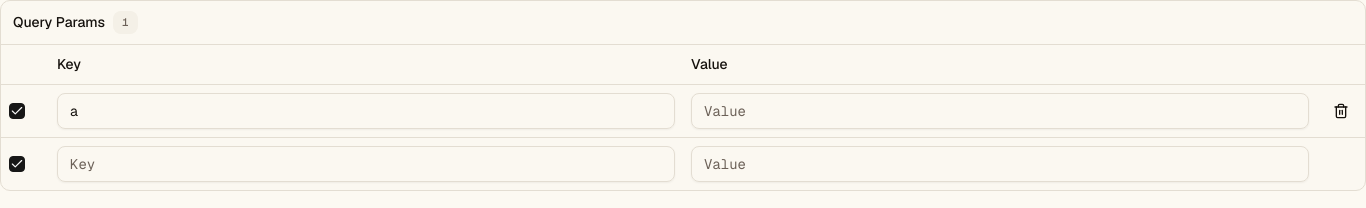
Test: removes an existing row when both fields are cleared and blurred
Clear the field with placeholder "Key": (366, 111) [57, 93, 675, 129]
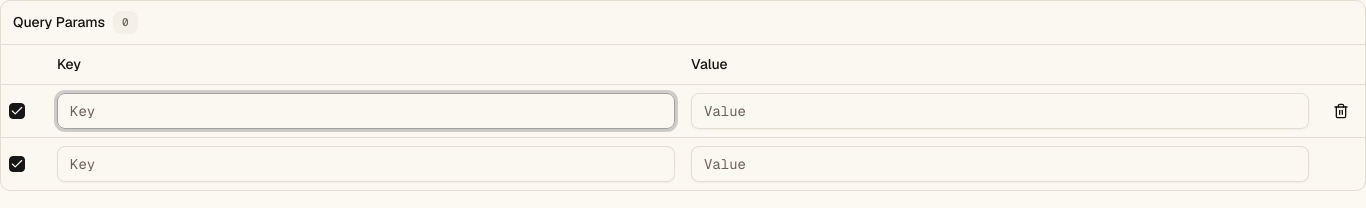
Press Tab
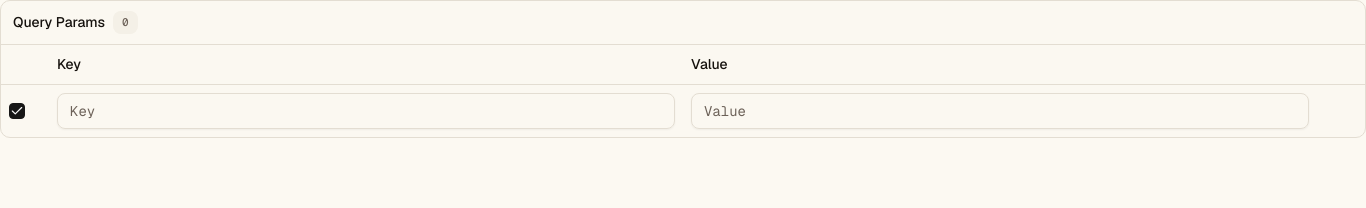
Result: the number of fields with placeholder "Key" is 1 at [57, 93, 675, 129]
